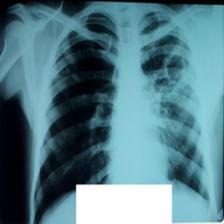tuberculosis: (32, 9, 216, 224)
